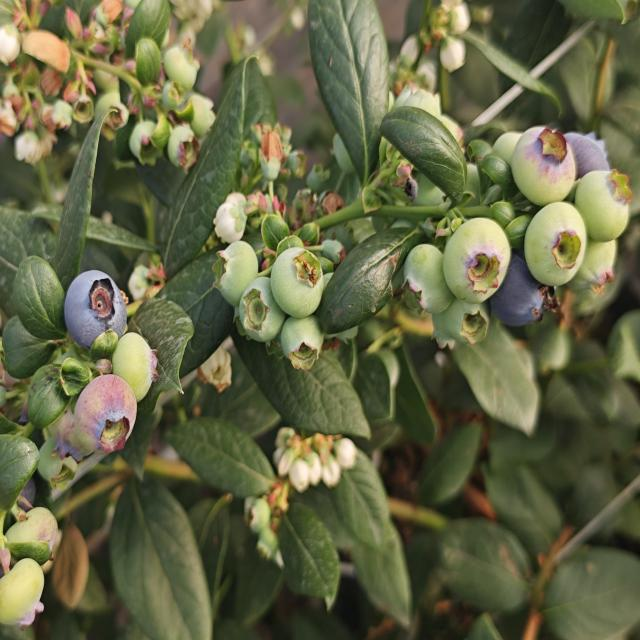ripe: (486, 240, 556, 330), (59, 266, 128, 346), (571, 130, 619, 180)
